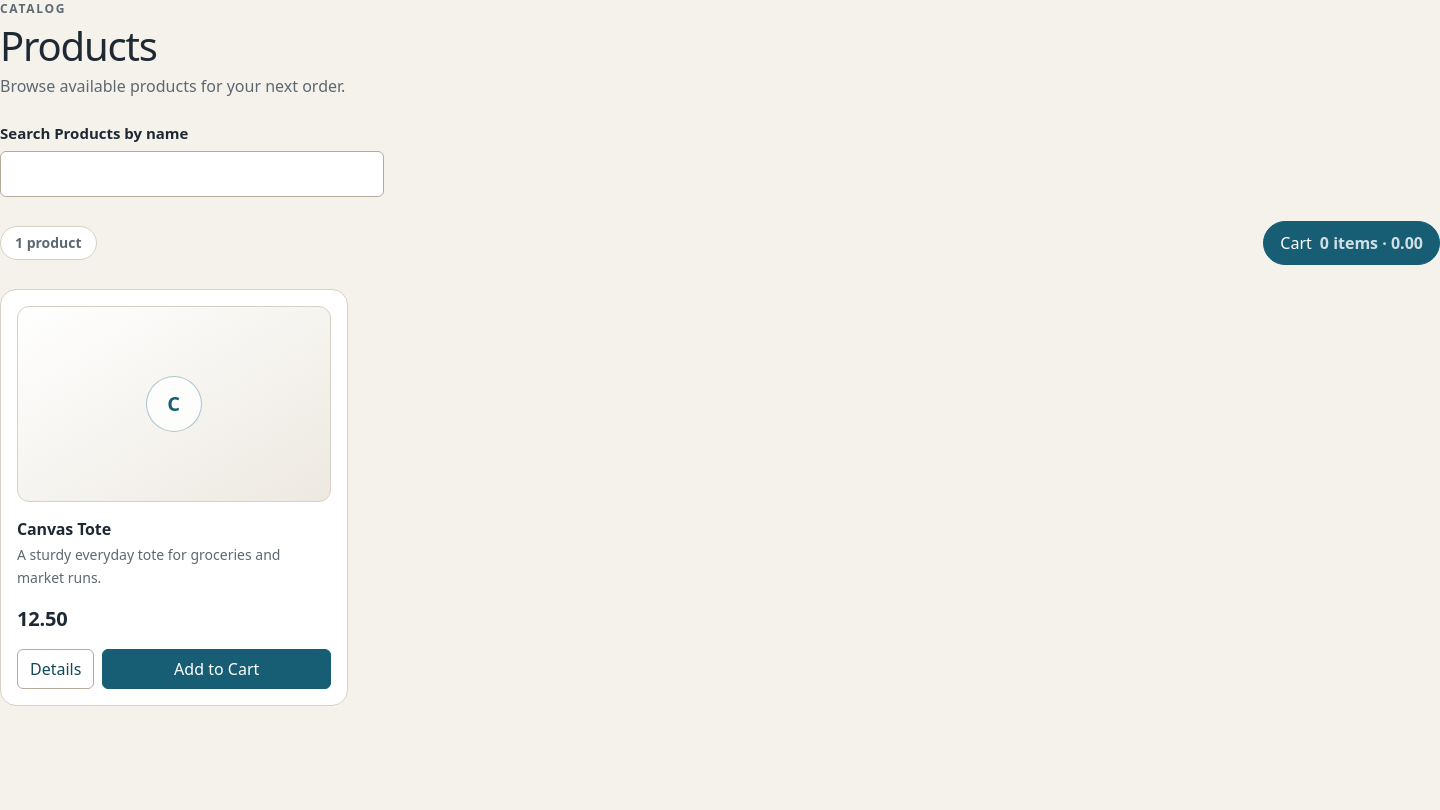
Test: Catalog › browses Products and opens the empty Cart drawer
This screenshot has width=1440, height=810.
Expected: the heading "Products" is shown, [0, 18, 157, 73]
Expected: the heading "Canvas Tote" is shown, [17, 518, 111, 540]
Click the button "Cart 0 items · 0.00" at [1352, 242], box [1263, 220, 1439, 264]
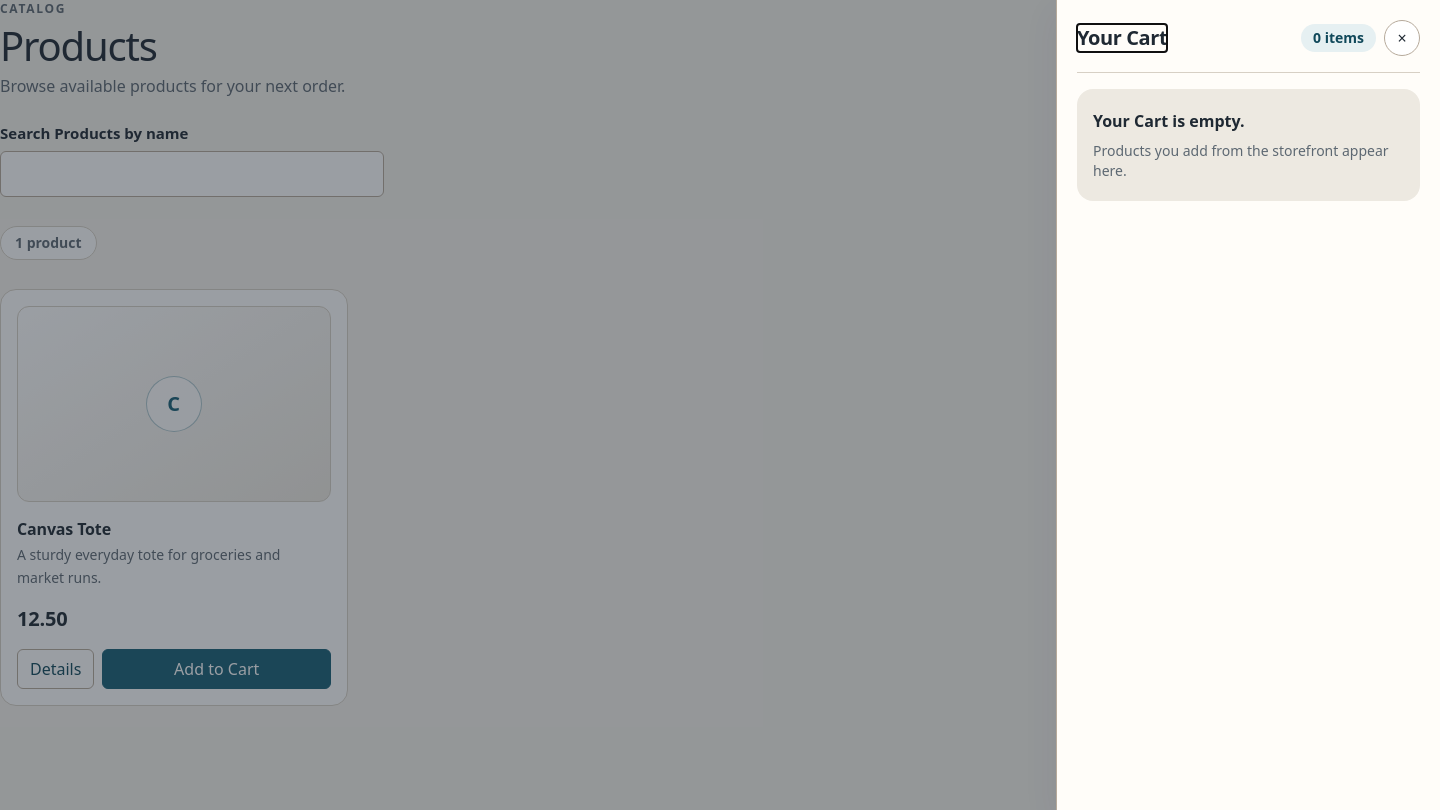
Expected: the text "Your Cart is empty." is shown, [1093, 110, 1244, 132]
Expected: the text "0 items" is shown, [1301, 24, 1376, 52]
